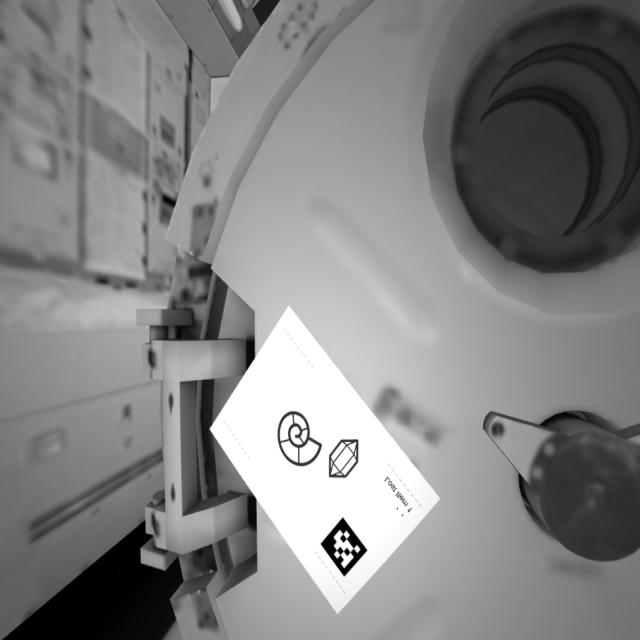crystal: (326, 438, 362, 482)
fossil: (277, 408, 325, 470)
